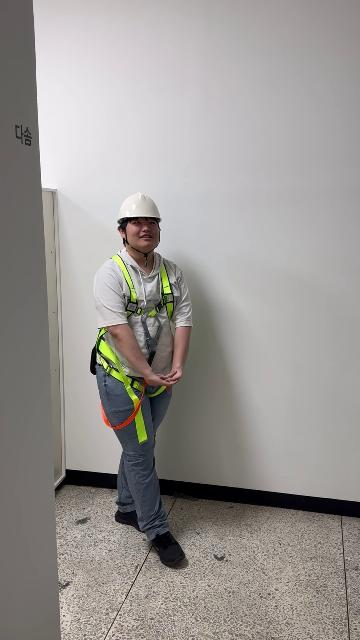helmet_worn: (116, 191, 162, 225)
shoe_not_worn: (151, 530, 185, 567), (115, 508, 143, 531)
vest_worn: (90, 260, 176, 436)
